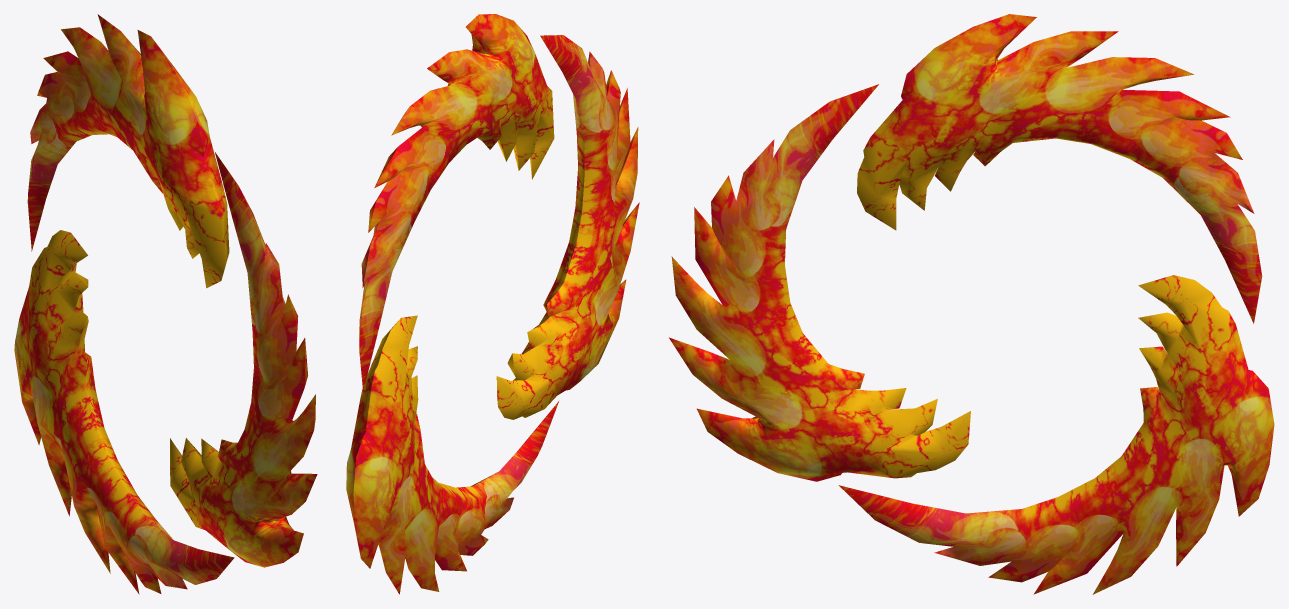
The model's file is Ring of fire_R.fbx.
3 views of the same model, side by side, from view 1: azimuth 30°, elevation 25°; view 2: azimuth 150°, elevation 25°; view 3: azimuth 270°, elevation 25° (orthographic). The views are drawn at different scales.
Parts seen in each view (by area): view 1: Ring_of_fire; view 2: Ring_of_fire; view 3: Ring_of_fire.
Boxes of the visible parts, x1,y1,x2,y2 form: Ring_of_fire: (14, 14, 317, 594); Ring_of_fire: (346, 14, 639, 594); Ring_of_fire: (669, 14, 1274, 594).
Size of the model in its own units: 28.59 by 30.24 by 2.74.
